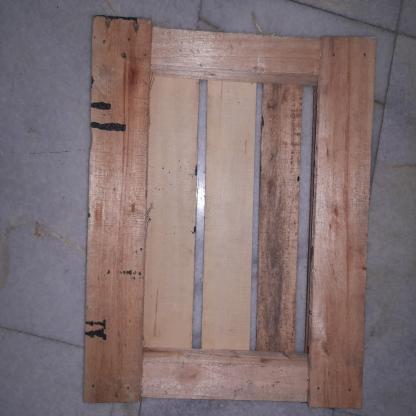Wooden-Pallet: (76, 12, 379, 410)
